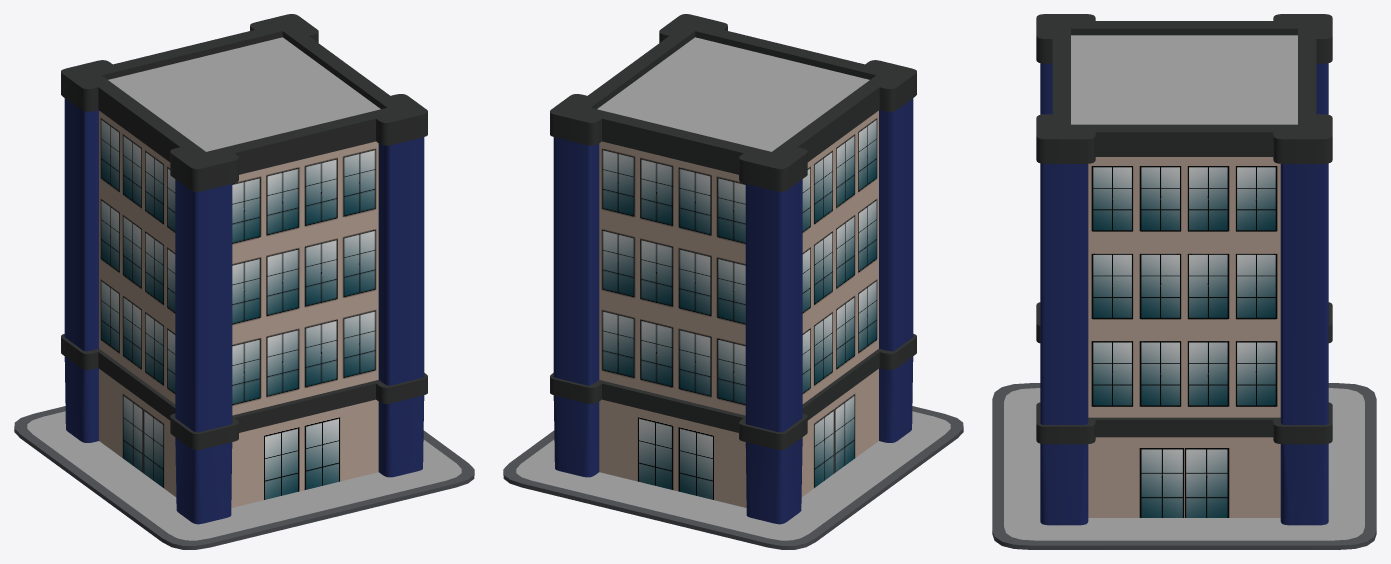
File: Yakuza_Bat_1.fbx
3 views of the same model, side by side, from view 1: azimuth 30°, elevation 25°; view 2: azimuth 150°, elevation 25°; view 3: azimuth 270°, elevation 25° (orthographic). The views are drawn at different scales.
Visible parts, largest first — view 1: Yakuza_Bat_1; view 2: Yakuza_Bat_1; view 3: Yakuza_Bat_1.
Boxes of the visible parts, x1,y1,x2,y2 form: Yakuza_Bat_1: (14,14,474,549); Yakuza_Bat_1: (503,14,963,549); Yakuza_Bat_1: (992,14,1376,549).
Size of the model in its own units: 315 by 354 by 315.
